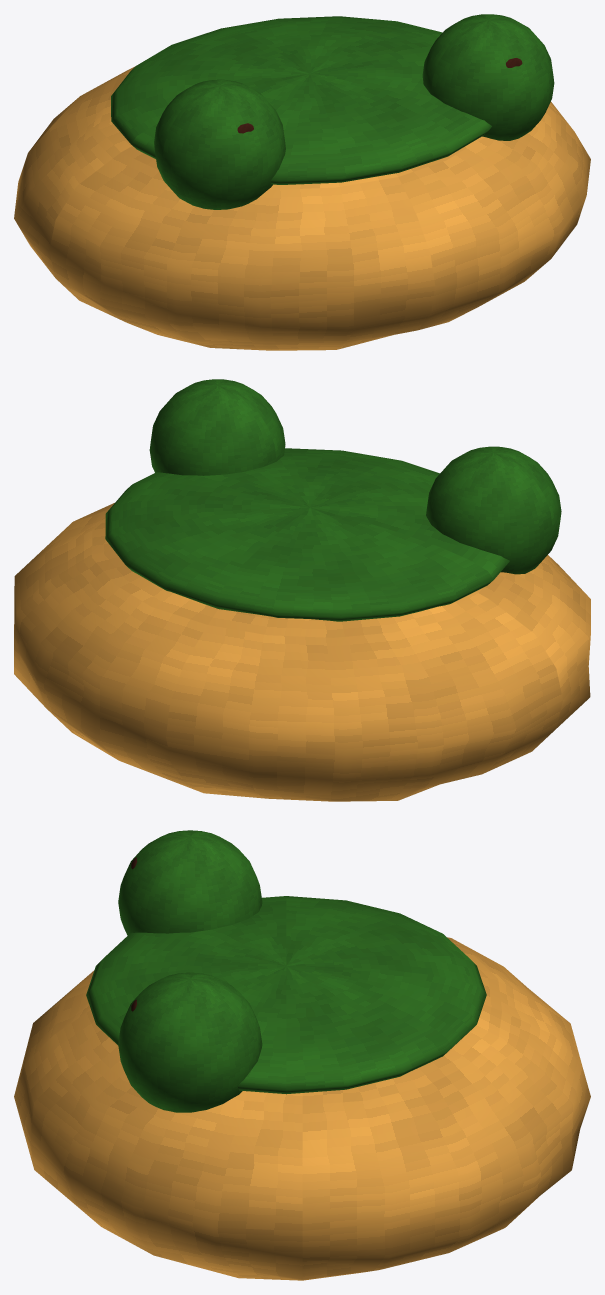
Rendered from bread_frog_matcha.glb.
3 renders of one model, top to bottom at view 1: azimuth 30°, elevation 25°; view 2: azimuth 150°, elevation 25°; view 3: azimuth 270°, elevation 25°, orthographic. The views are drawn at different scales.
Visible parts, largest first — view 1: 動物ビスケット, まっちゃ色の顔, カエルの目, カエルの目.001; view 2: 動物ビスケット, まっちゃ色の顔, カエルの目, カエルの目.001; view 3: 動物ビスケット, まっちゃ色の顔, カエルの目.001, カエルの目.
Boxes of the visible parts, x1,y1,x2,y2 form: 動物ビスケット: (14,66,590,350); まっちゃ色の顔: (111,16,491,184); カエルの目: (154,79,285,209); カエルの目.001: (422,14,554,140); 動物ビスケット: (14,503,590,801); まっちゃ色の顔: (105,448,509,621); カエルの目: (426,446,561,574); カエルの目.001: (149,379,285,475); 動物ビスケット: (14,937,590,1280); まっちゃ色の顔: (86,896,486,1094); カエルの目.001: (118,972,262,1112); カエルの目: (118,830,262,935).
Size of the model in its own units: 0.7929 by 0.43 by 0.72.
Materials: 3 (3 with a texture image).
